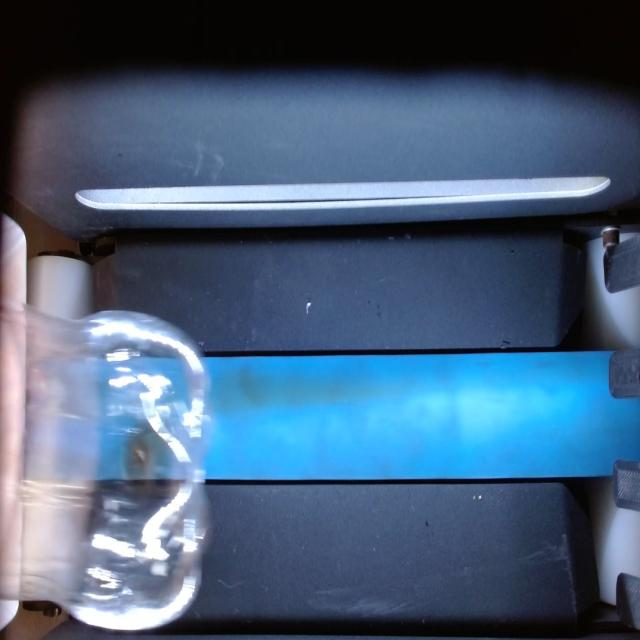bottom: (0, 307, 208, 629)
